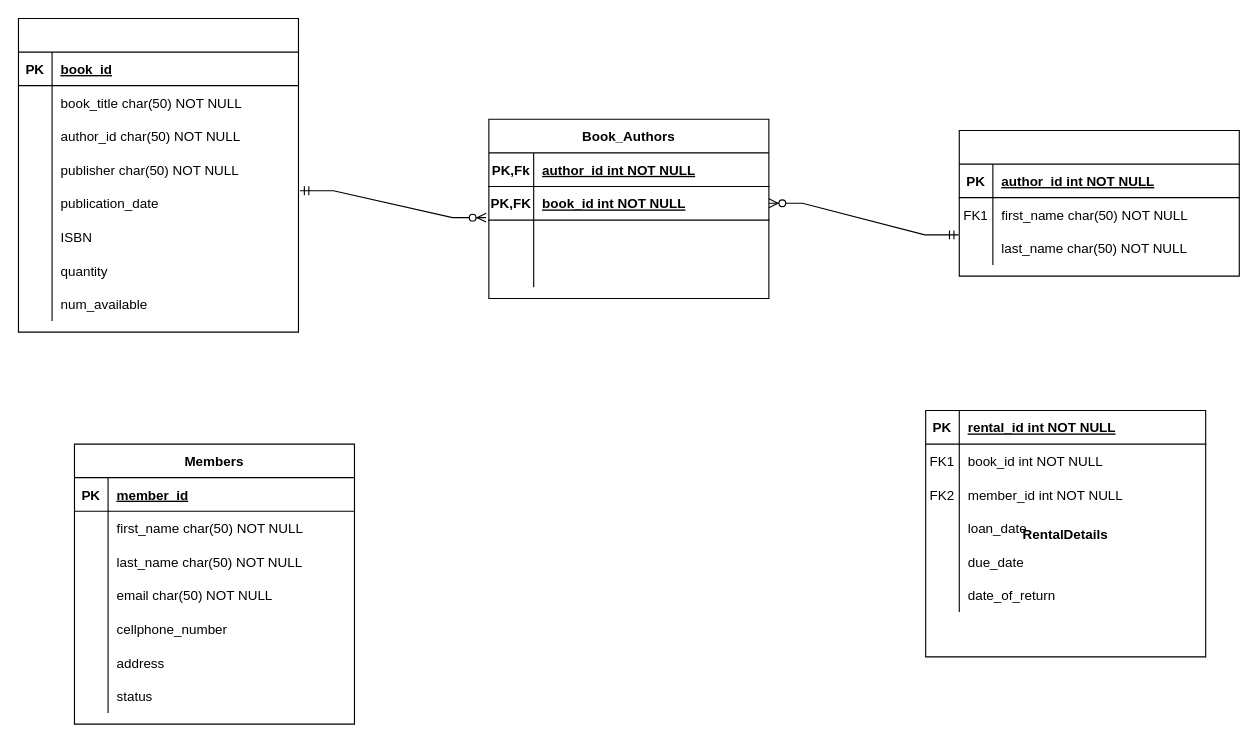
This 1258x743 diagram has some shape labels left out. Each missing label, with the box of its shape:
Authors: (958, 129, 1239, 276)
Books: (17, 17, 298, 332)
